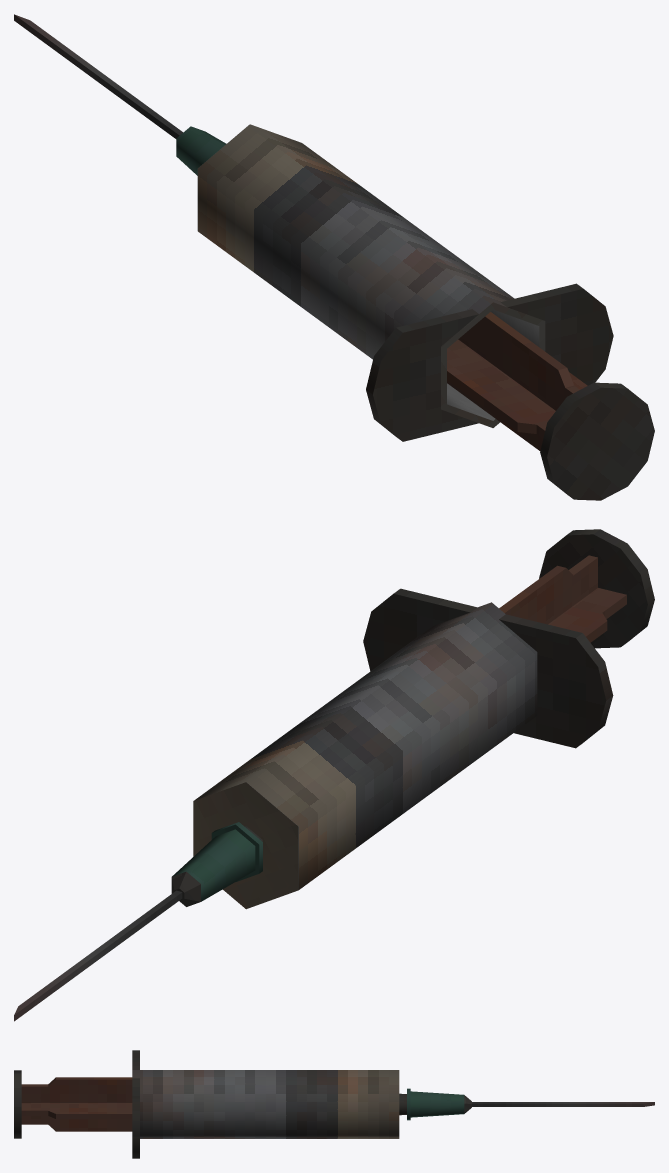
File: syringe_mp_1.glb
3 views of the same model, one above another, from view 1: azimuth 30°, elevation 25°; view 2: azimuth 150°, elevation 25°; view 3: azimuth 270°, elevation 25° (orthographic). The views are drawn at different scales.
Visible parts, largest first — view 1: syringe_mp_1; view 2: syringe_mp_1; view 3: syringe_mp_1.
Part boxes in pixels (bbox=[...]): syringe_mp_1: bbox=[14, 14, 654, 500]; syringe_mp_1: bbox=[14, 529, 654, 1021]; syringe_mp_1: bbox=[14, 1050, 654, 1158].
Bounding box in the file's own units: 0.04 × 0.02 × 0.168.
Materials: 1 (1 with a texture image).
